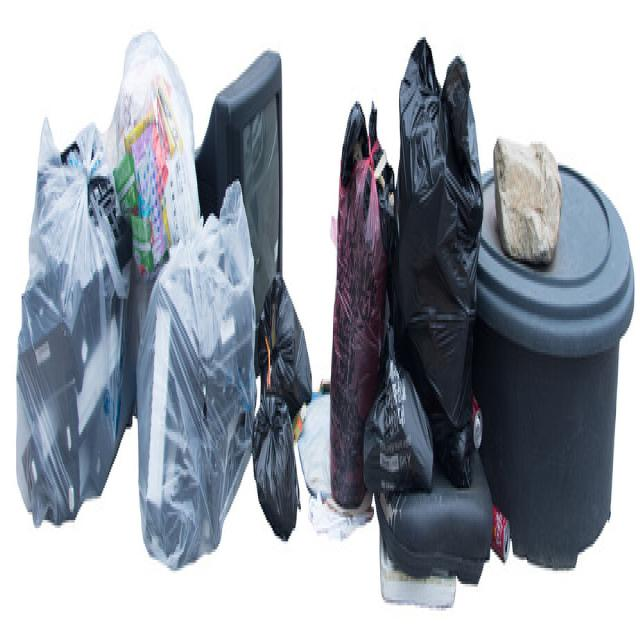trash: (41, 88, 288, 523), (344, 112, 468, 501)
